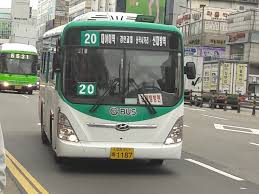bnum: (76, 82, 96, 96)
